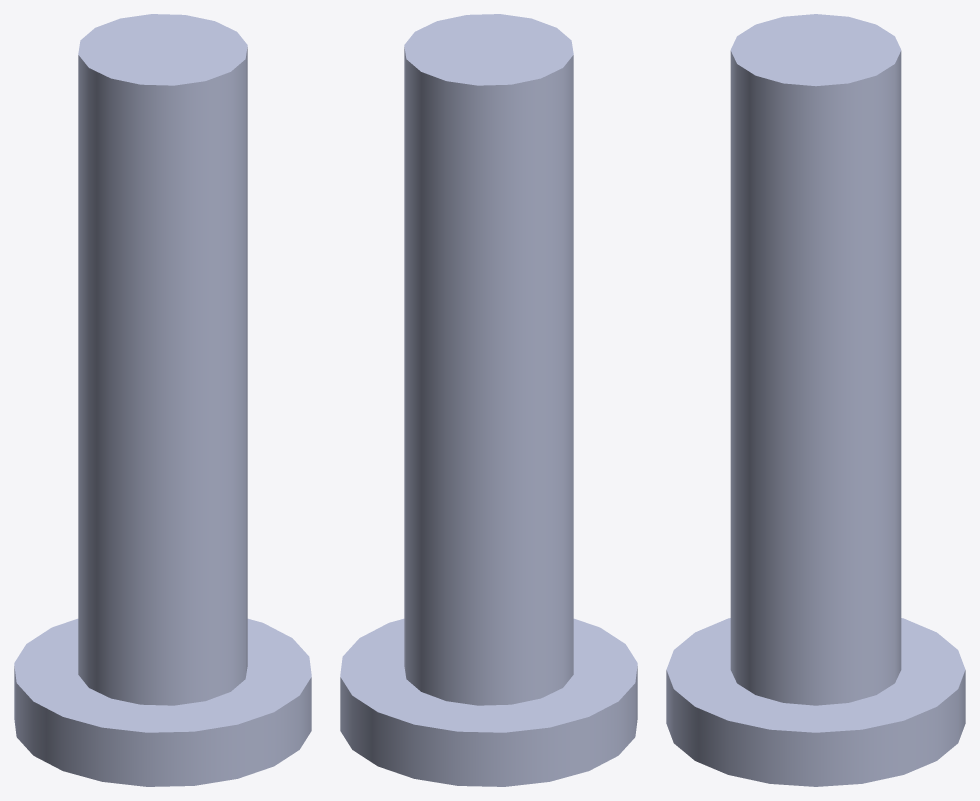
Rendered from body_servo_krs__M2x8_lowhead_17.dae.
3 views of the same model, side by side, from view 1: azimuth 30°, elevation 25°; view 2: azimuth 150°, elevation 25°; view 3: azimuth 270°, elevation 25° (orthographic).
Visible parts, largest first — view 1: node0; view 2: node0; view 3: node0.
Part boxes in pixels (left/top/right/bottom): node0: left=14, top=14, right=311, bottom=786; node0: left=340, top=14, right=637, bottom=786; node0: left=666, top=14, right=965, bottom=786.
Bounding box in the file's own units: 0.0035 × 0.0087 × 0.0035.
